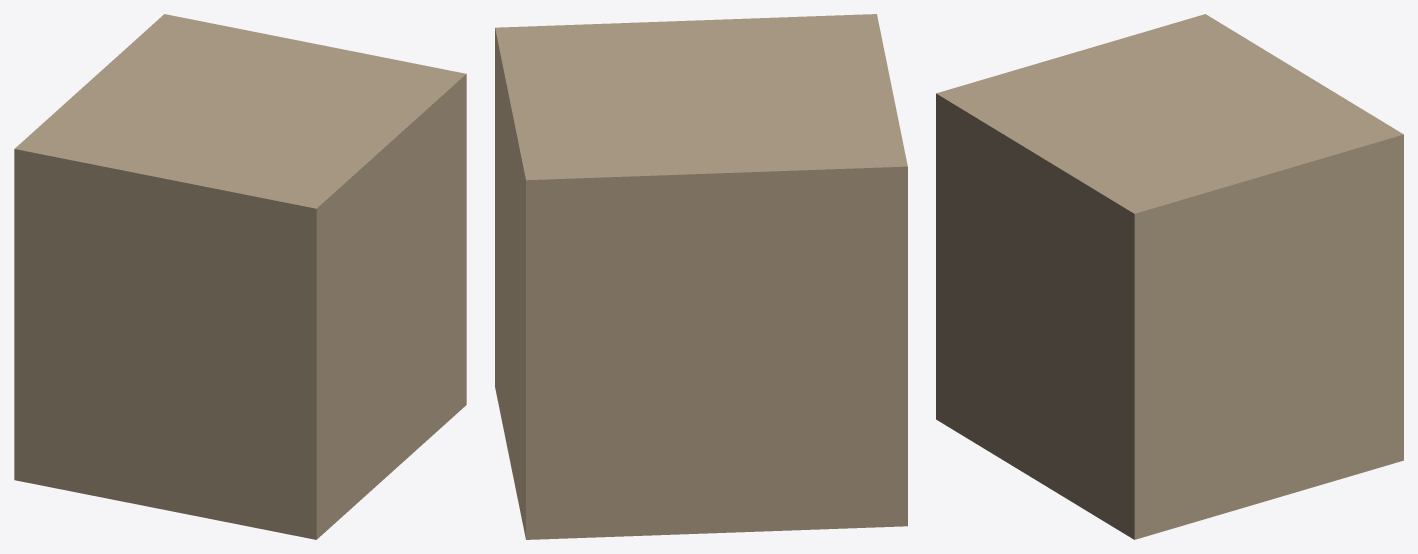
Rendered from bld_101245944.dae.
3 renders of one model, left to right at view 1: azimuth 30°, elevation 25°; view 2: azimuth 150°, elevation 25°; view 3: azimuth 270°, elevation 25°, orthographic. The views are drawn at different scales.
Parts seen in each view (by area): view 1: bld_101245944; view 2: bld_101245944; view 3: bld_101245944.
Boxes of the visible parts, x1=… form: bld_101245944: x1=14, y1=14, x2=466, y2=539; bld_101245944: x1=495, y1=14, x2=907, y2=539; bld_101245944: x1=936, y1=14, x2=1403, y2=539.
Bounding box in the file's own units: 10.52 × 10.4 × 8.
